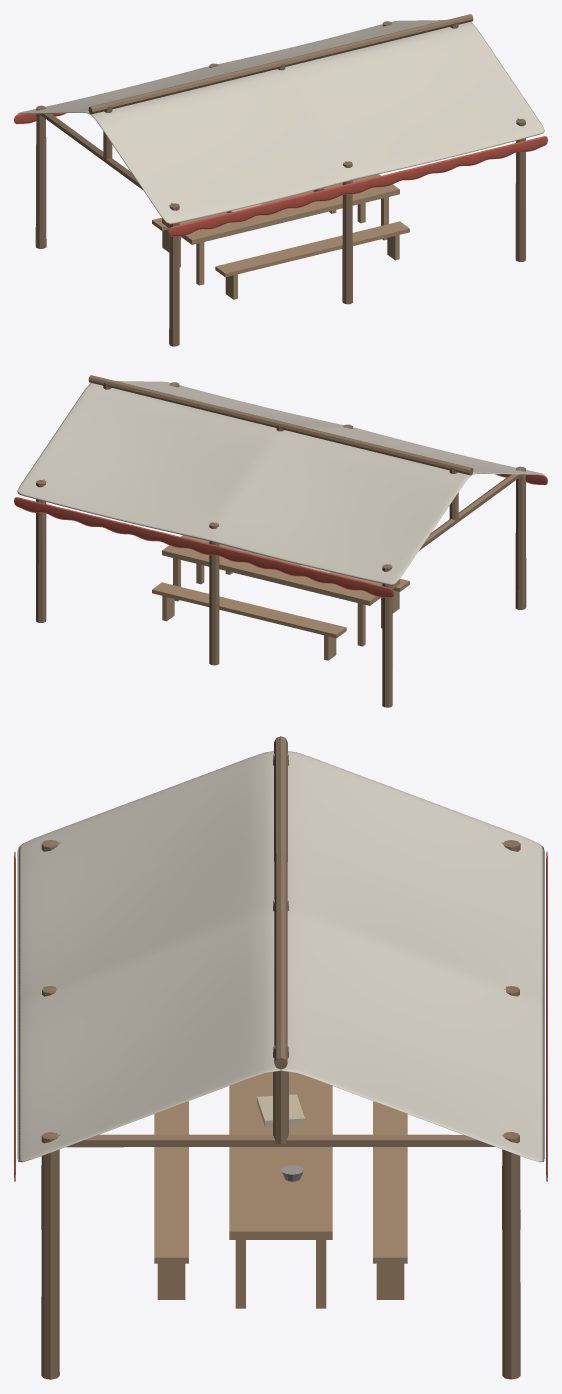
File: C04_军需敞棚.fbx
3 renders of one model, top to bottom at view 1: azimuth 30°, elevation 25°; view 2: azimuth 150°, elevation 25°; view 3: azimuth 270°, elevation 25°, orthographic. The views are drawn at different scales.
Visible parts, largest first — view 1: C04_棚顶, C04_立柱, C04_垂幔, C04_长案, C04_长凳, C04_脊杆, C04_梁; view 2: C04_棚顶, C04_立柱, C04_垂幔, C04_长案, C04_长凳, C04_脊杆, C04_梁; view 3: C04_棚顶, C04_长案, C04_长凳, C04_立柱, C04_梁, C04_脊杆, C04_垂幔, C04_脊柱, C04_案上竹简.
Boxes of the visible parts, box(x1,y1,x2,y2) form: C04_棚顶: box(17, 20, 544, 224); C04_立柱: box(35, 21, 525, 346); C04_垂幔: box(14, 113, 547, 236); C04_长案: box(162, 174, 399, 285); C04_长凳: box(152, 210, 409, 299); C04_脊杆: box(88, 14, 473, 114); C04_梁: box(40, 23, 521, 205); C04_棚顶: box(17, 381, 544, 585); C04_立柱: box(36, 382, 526, 707); C04_垂幔: box(14, 474, 547, 597); C04_长案: box(162, 535, 399, 646); C04_长凳: box(152, 571, 409, 660); C04_脊杆: box(88, 375, 473, 475); C04_梁: box(40, 384, 521, 566); C04_棚顶: box(17, 751, 544, 1162); C04_长案: box(229, 1072, 332, 1308); C04_长凳: box(154, 1101, 407, 1299); C04_立柱: box(41, 840, 520, 1379); C04_梁: box(50, 842, 511, 1147); C04_脊杆: box(274, 736, 287, 1069); C04_垂幔: box(14, 851, 547, 1181); C04_脊柱: box(273, 753, 288, 1144); C04_案上竹简: box(257, 1094, 304, 1126).
Size of the model in its own units: 660 by 319 by 464.
